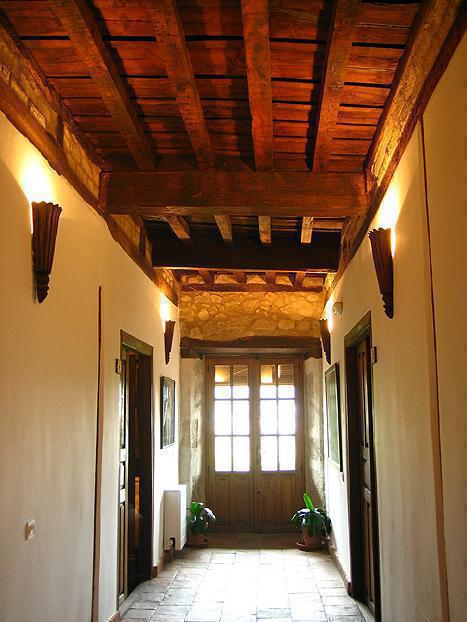Matera: (291, 502, 337, 555), (189, 498, 215, 542)
Puerta: (343, 332, 379, 613), (116, 330, 150, 591)
